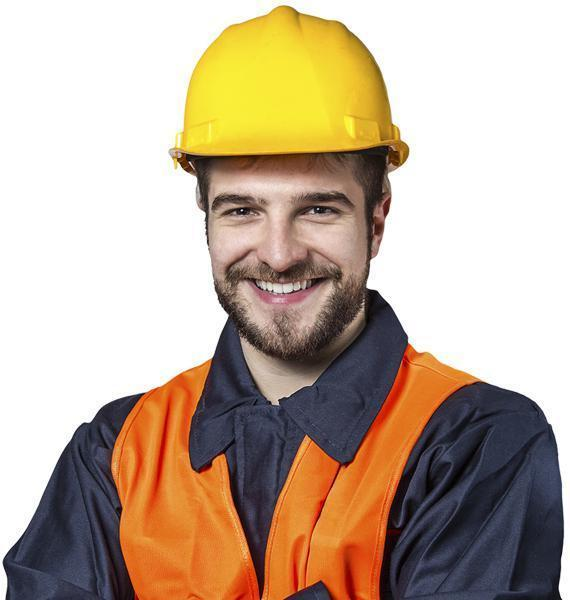helmet: (167, 5, 409, 177)
